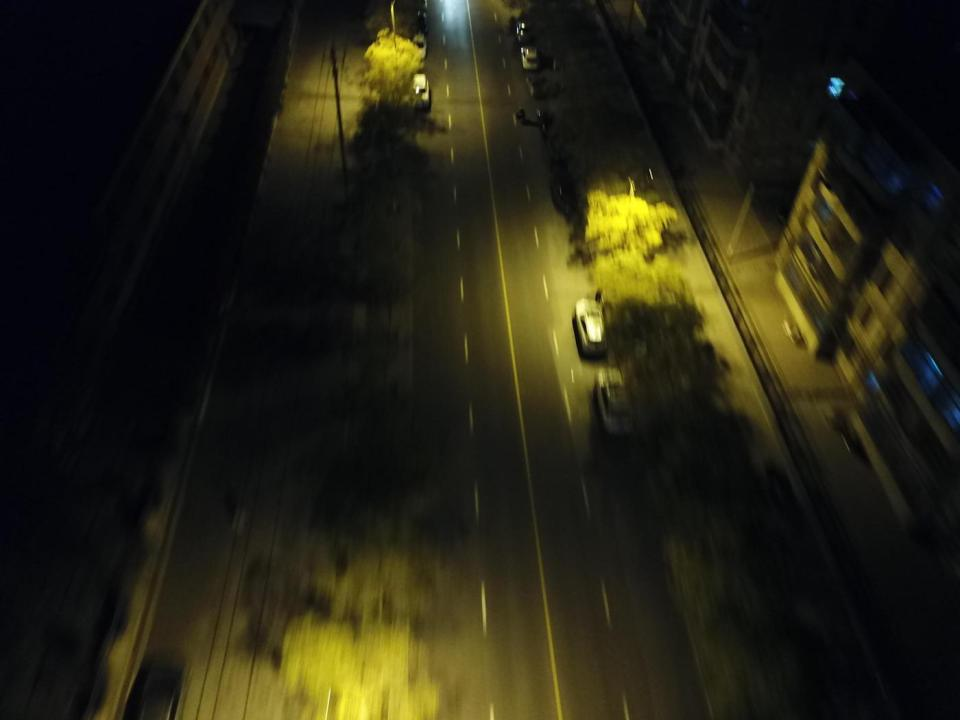car: (119, 649, 188, 720), (595, 367, 636, 436), (576, 298, 608, 356), (552, 160, 575, 210), (411, 72, 432, 110), (782, 316, 802, 346), (539, 111, 559, 139), (527, 73, 547, 99), (521, 47, 541, 72), (778, 205, 803, 224), (410, 33, 426, 61), (515, 19, 532, 44)
